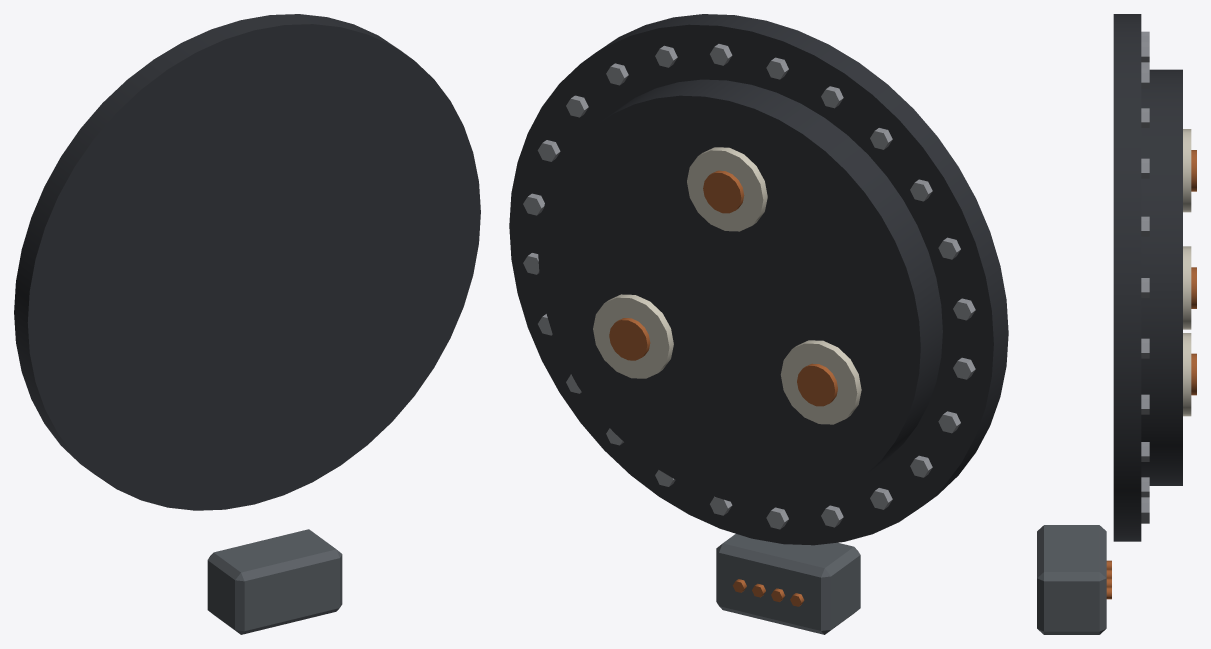
The model's file is sr150_bus_coupling.obj.
The picture shows the model from 3 angles, left to right: view 1: azimuth 30°, elevation 25°; view 2: azimuth 150°, elevation 25°; view 3: azimuth 270°, elevation 25°; orthographic projection. The views are drawn at different scales.
Visible parts, largest first — view 1: sr150_bus_coupling; view 2: sr150_bus_coupling; view 3: sr150_bus_coupling.
Part boxes in pixels (<box>): sr150_bus_coupling: <box>14,14,480,634</box>; sr150_bus_coupling: <box>509,14,1008,634</box>; sr150_bus_coupling: <box>1037,14,1196,634</box>.
Size of the model in its own units: 0.76 by 0.91 by 0.23.
